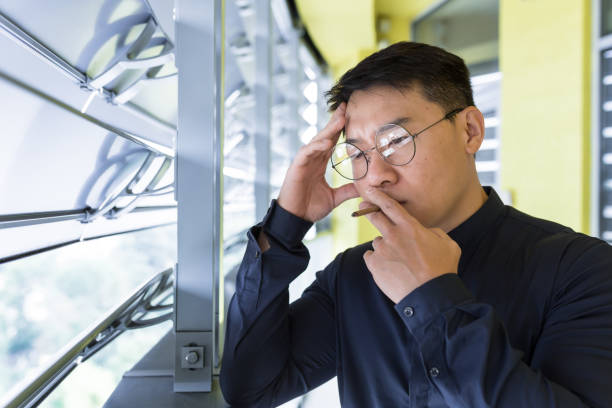cigarette: (351, 206, 383, 218)
